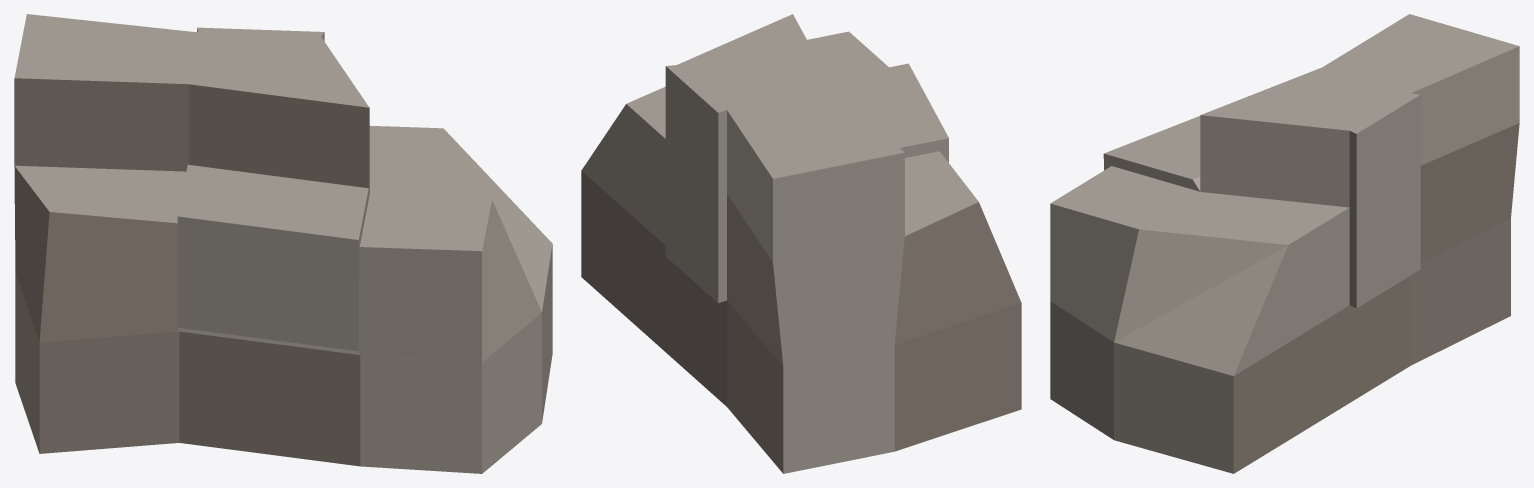
File: stone3.fbx
3 views of the same model, side by side, from view 1: azimuth 30°, elevation 25°; view 2: azimuth 150°, elevation 25°; view 3: azimuth 270°, elevation 25° (orthographic). The views are drawn at different scales.
Parts seen in each view (by area): view 1: pCube22; view 2: pCube22; view 3: pCube22.
Boxes of the visible parts, box(x1,y1,x2,y2) form: pCube22: box(14, 14, 552, 473); pCube22: box(581, 14, 1021, 473); pCube22: box(1050, 14, 1519, 473).
Size of the model in its own units: 13.5 by 8.23 by 12.85.
